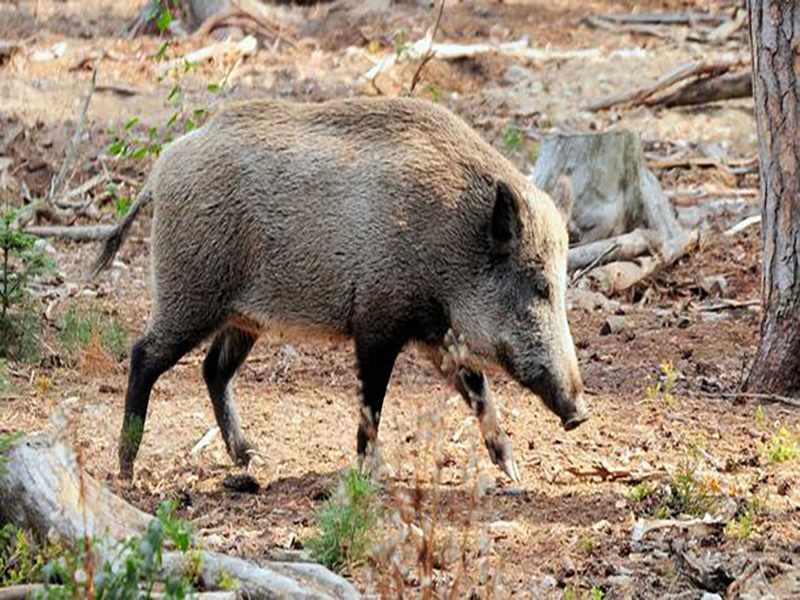cinghiale: (118, 80, 597, 502)
